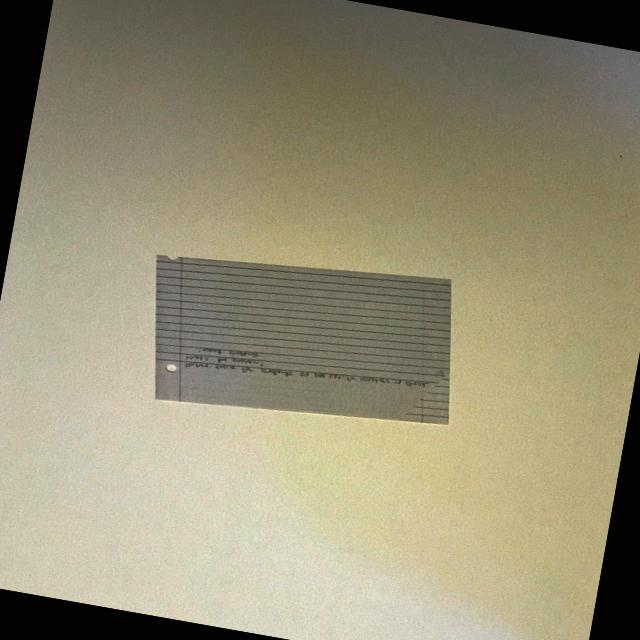Paper: (110, 224, 485, 458)
